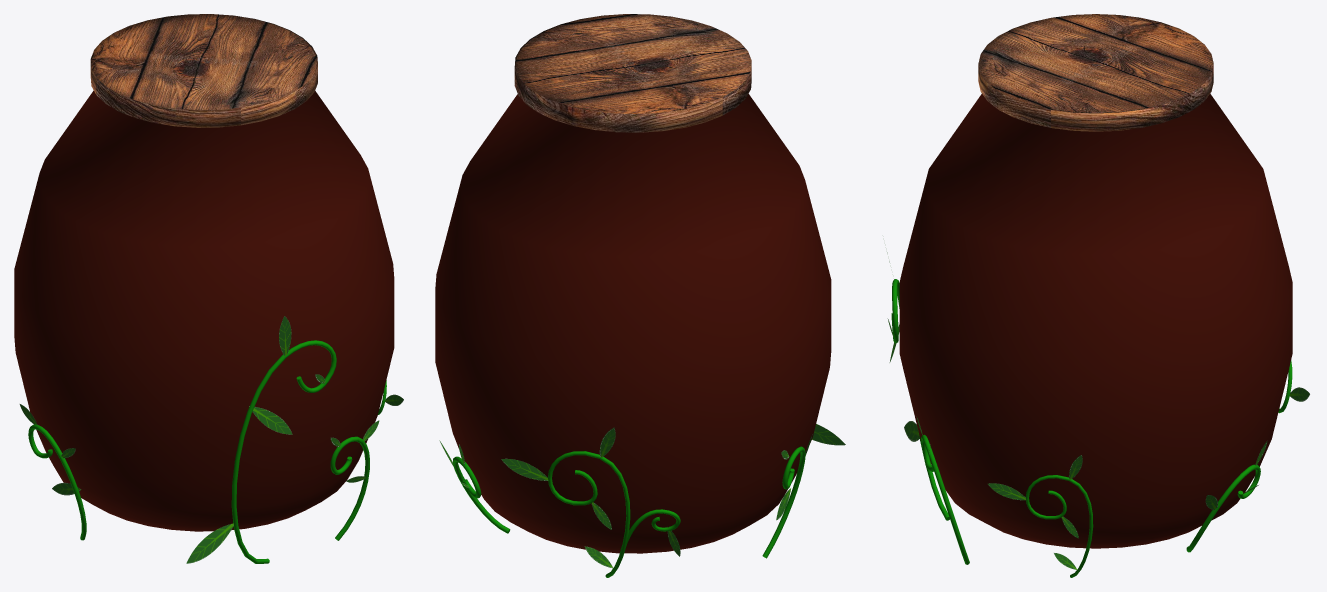
The model's file is pot with vines.fbx.
3 renders of one model, left to right at view 1: azimuth 30°, elevation 25°; view 2: azimuth 150°, elevation 25°; view 3: azimuth 270°, elevation 25°, orthographic. The views are drawn at different scales.
Visible parts, largest first — view 1: pot; view 2: pot; view 3: pot.
Boxes of the visible parts, left/top/right/bottom form: pot: left=14, top=14, right=403, bottom=563; pot: left=435, top=14, right=845, bottom=577; pot: left=887, top=14, right=1309, bottom=577.
Size of the model in its own units: 451 by 588 by 497.
